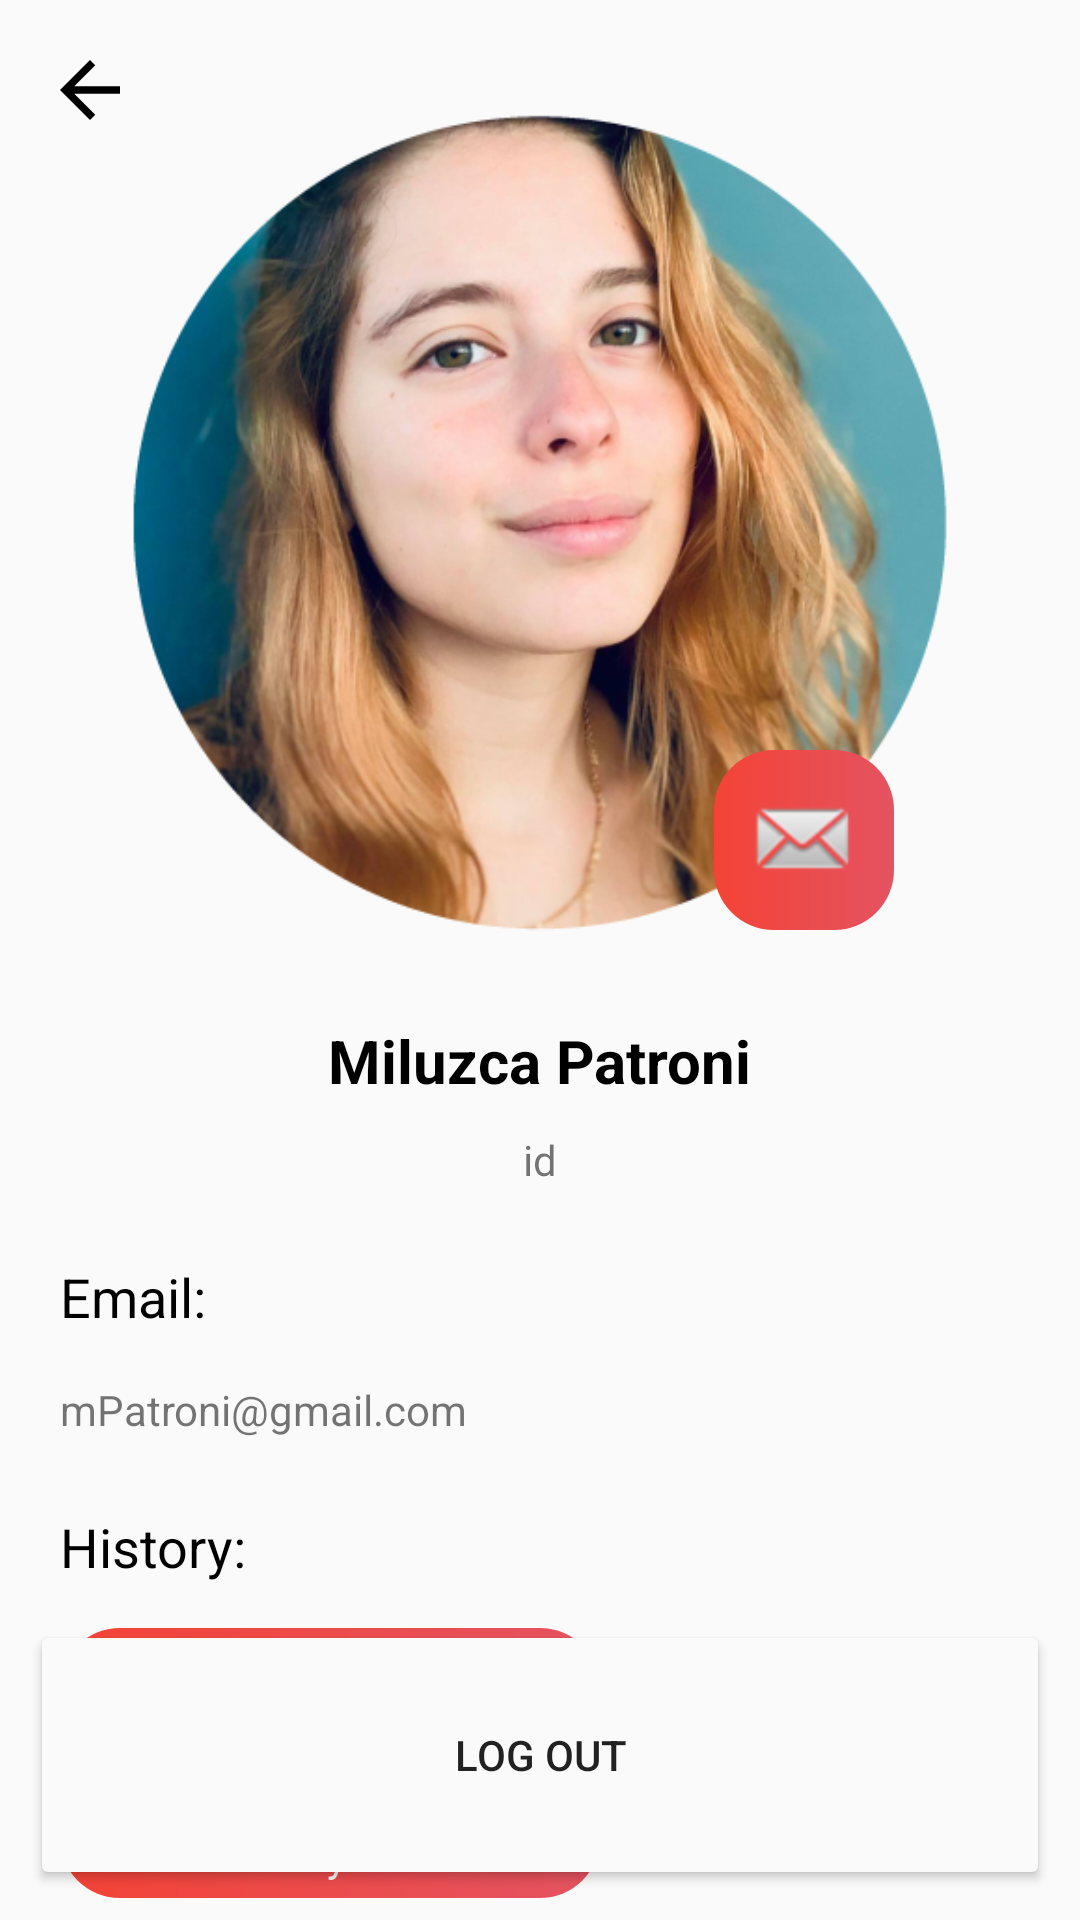

Named icons in this screenshot (1080 x 1920) and their centers, (x,y):
sym action email: (804,840)
